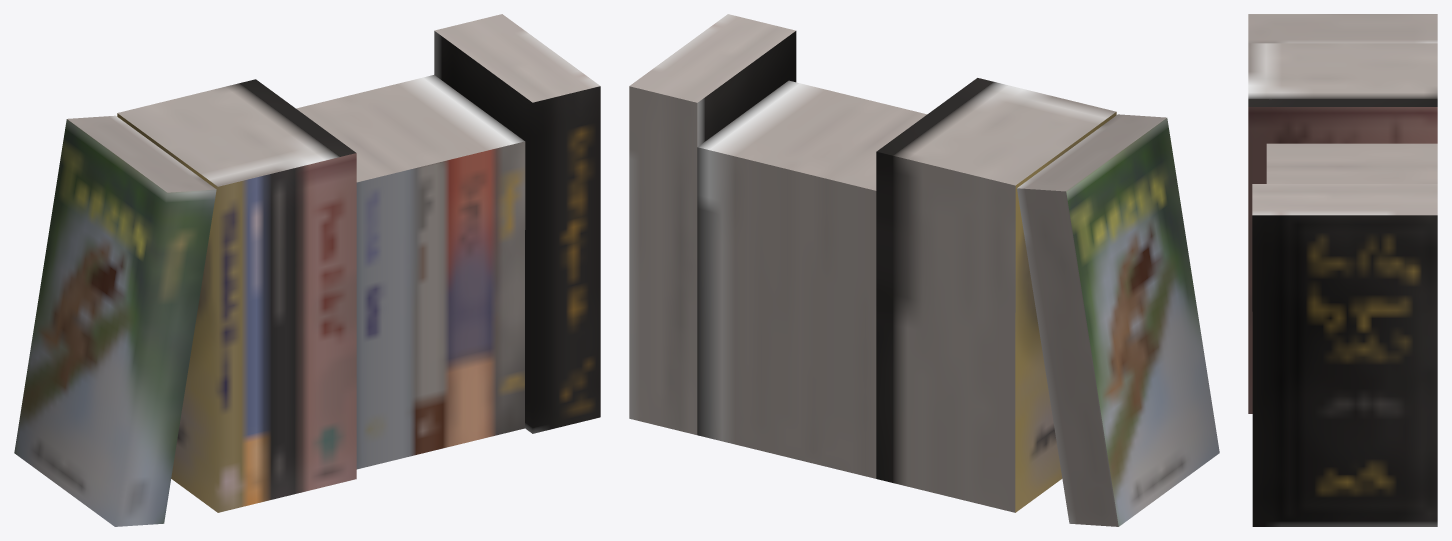
File: Books2.fbx
The picture shows the model from 3 angles, left to right: view 1: azimuth 30°, elevation 25°; view 2: azimuth 150°, elevation 25°; view 3: azimuth 270°, elevation 25°; orthographic projection. The views are drawn at different scales.
Visible parts, largest first — view 1: Books2; view 2: Books2; view 3: Books2.
Part boxes in pixels (left/top/right/bottom): Books2: left=14, top=14, right=600, bottom=526; Books2: left=629, top=14, right=1219, bottom=526; Books2: left=1248, top=14, right=1437, bottom=526.
Bounding box in the file's own units: 0.4743 × 0.309 × 0.1697.
